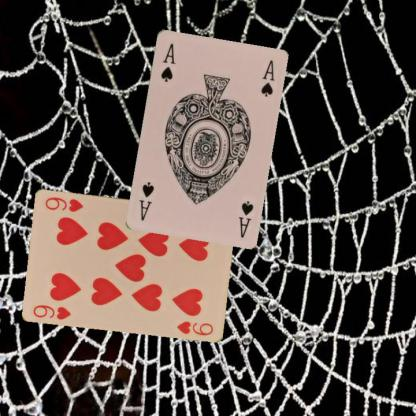9h: (30, 302, 72, 320)
As: (158, 40, 176, 84), (236, 198, 254, 238)
